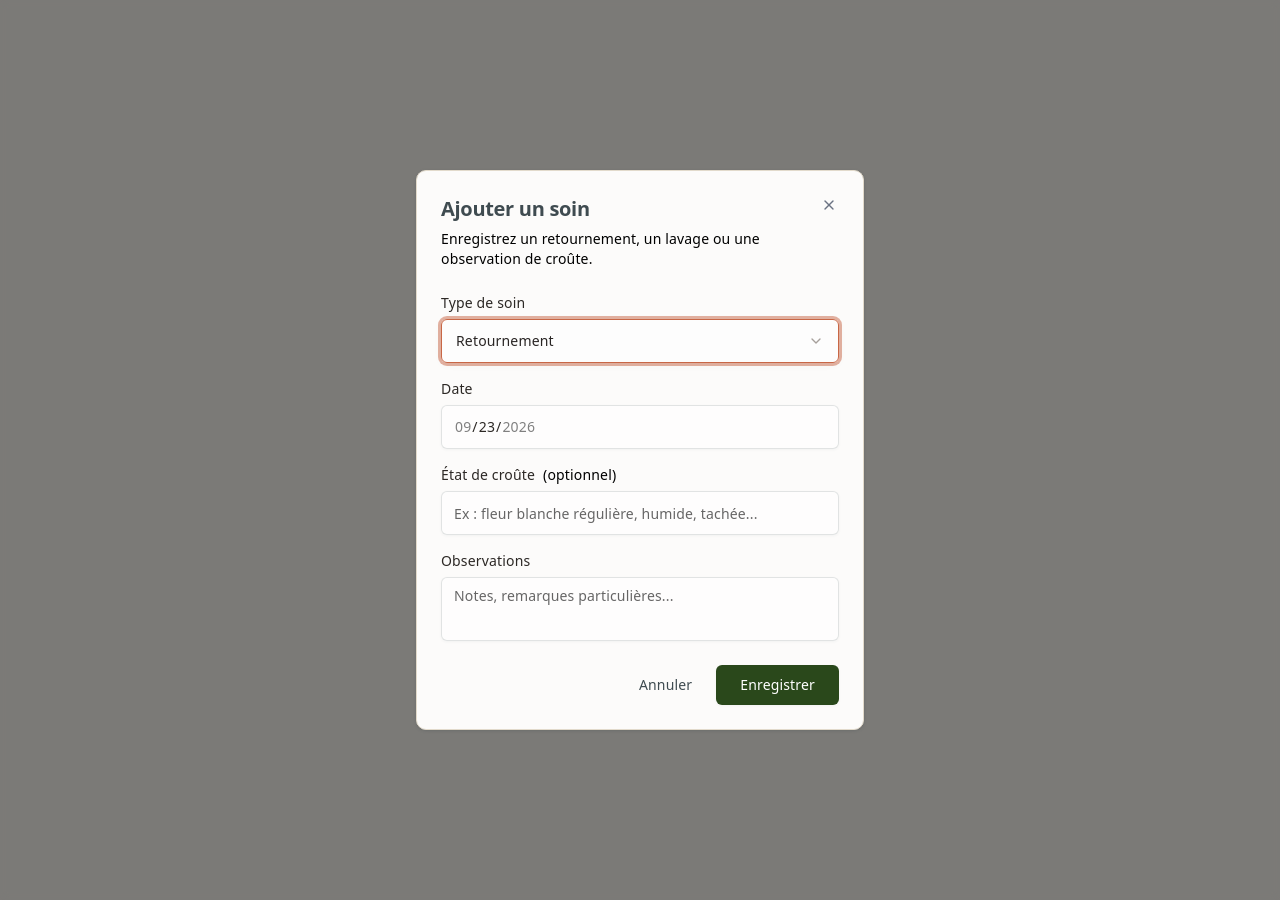
Scenario: AddCareDialog › refuse une date antérieure à aujourd'hui
This screenshot has width=1280, height=900.
Type "2025-05-09" into the date field labelled "Date" at (640, 427), box [441,405,839,449]
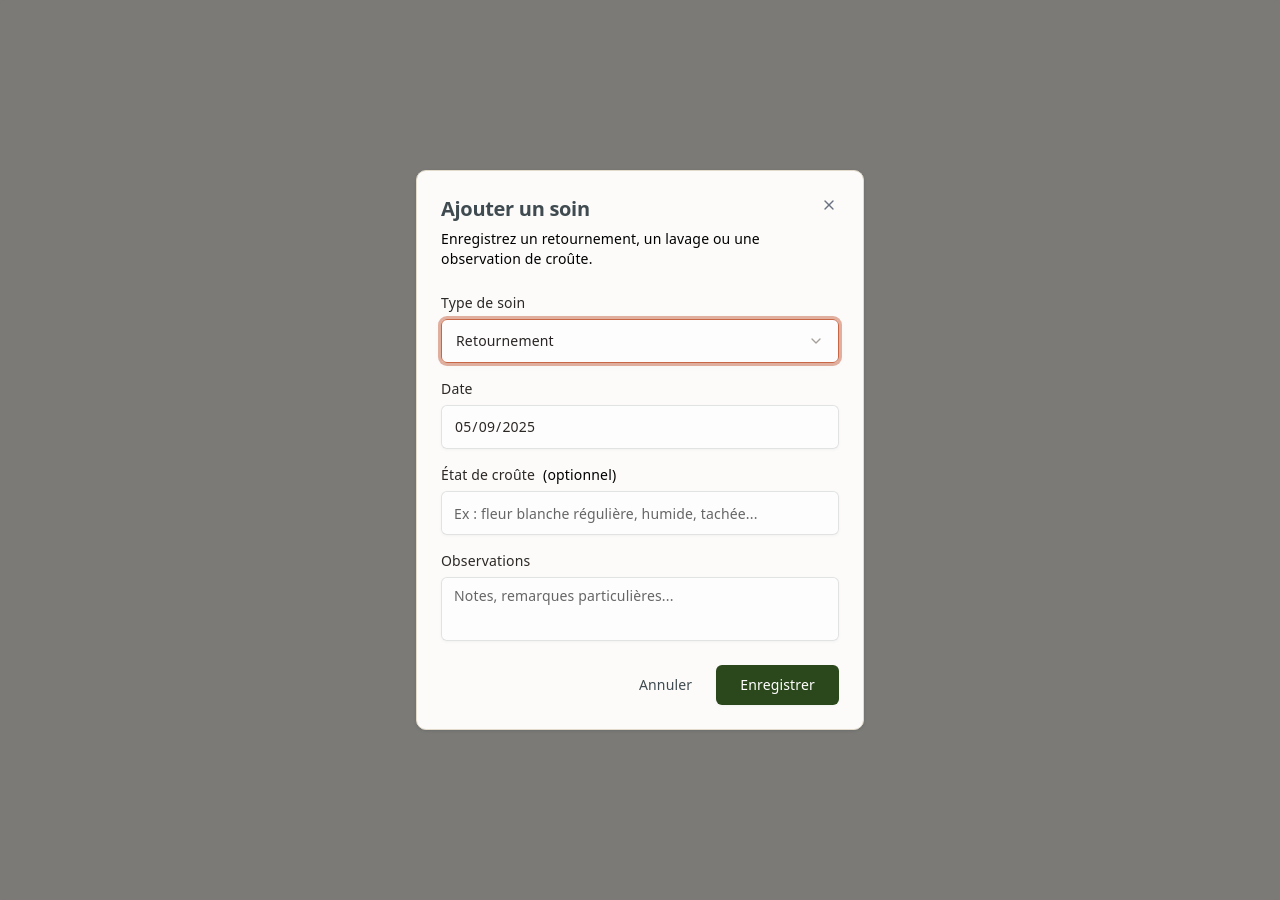
Submit the form, box [441,285,839,705]
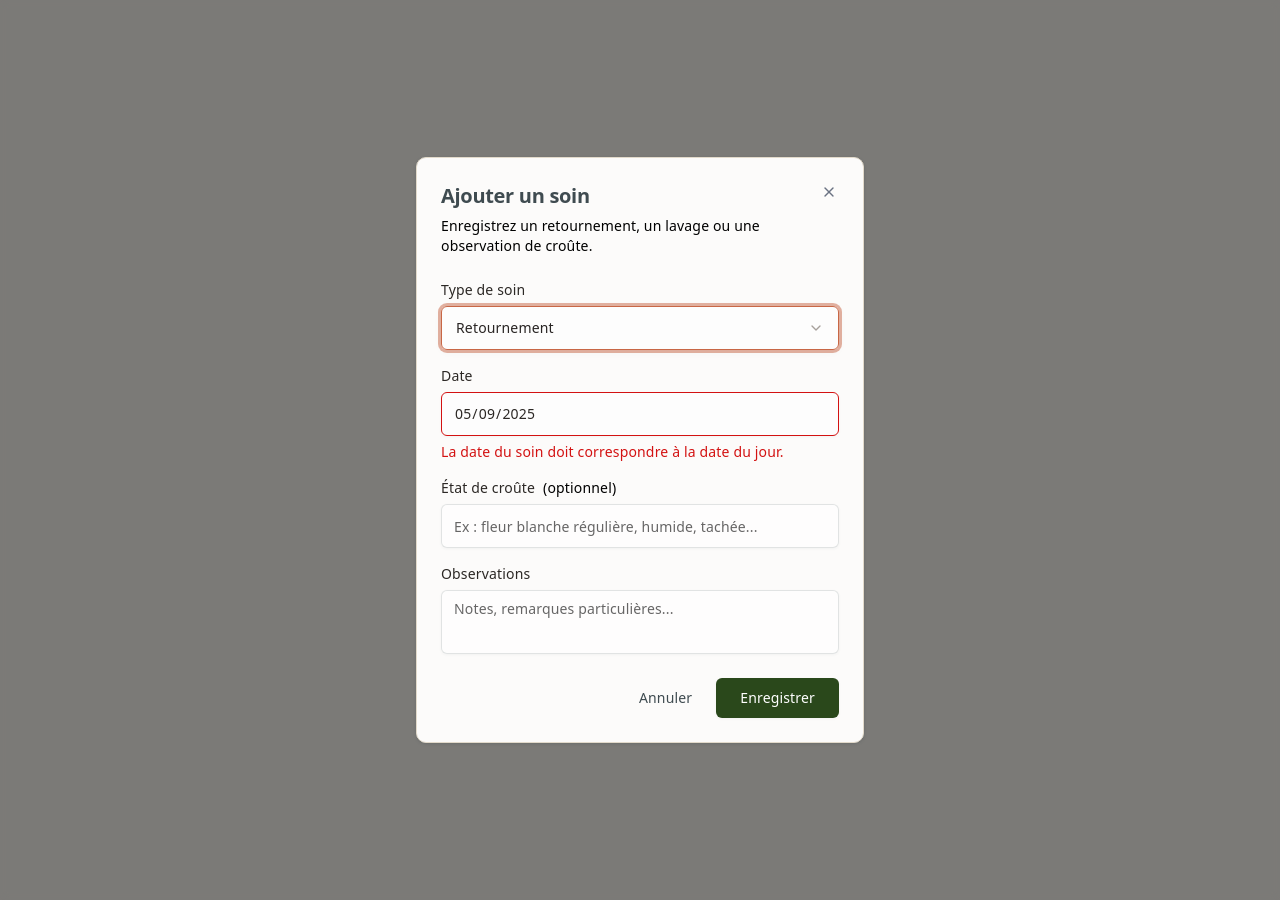
Result: the message reads "La date du soin doit correspondre à la date du jour." at [441,442,784,461]
